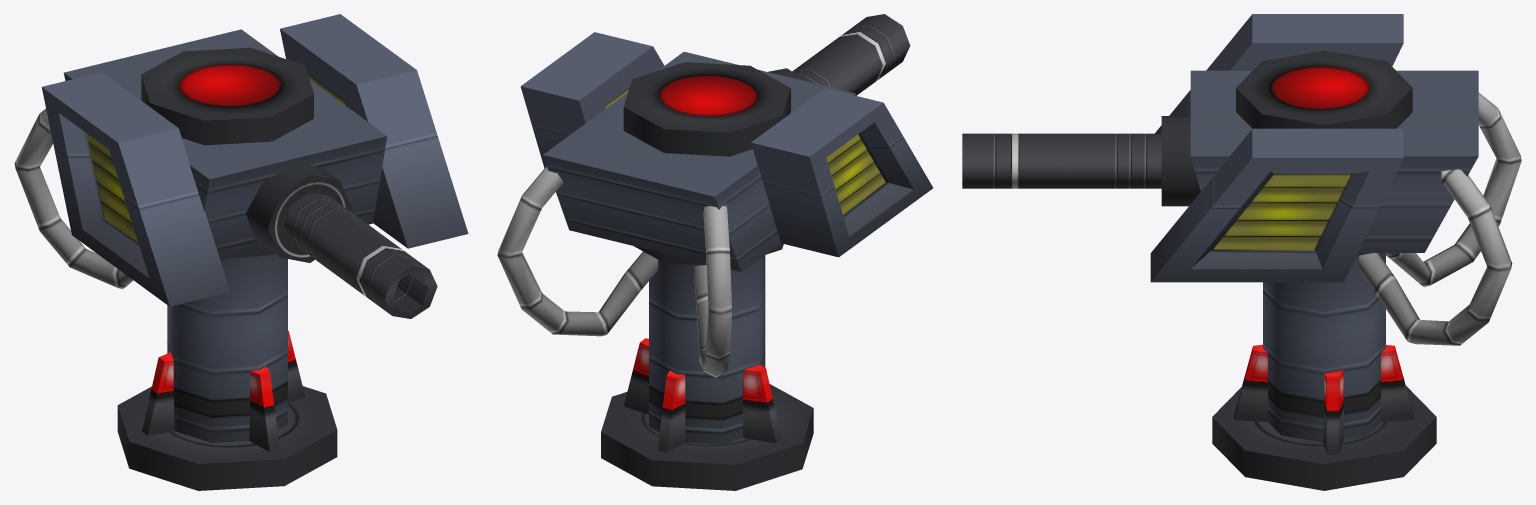
File: Turret.FBX
3 views of the same model, side by side, from view 1: azimuth 30°, elevation 25°; view 2: azimuth 150°, elevation 25°; view 3: azimuth 270°, elevation 25° (orthographic). The views are drawn at different scales.
Visible parts, largest first — view 1: Box01; view 2: Box01; view 3: Box01.
Boxes of the visible parts, <box> form: Box01: <box>14,14,468,490</box>; Box01: <box>497,14,932,490</box>; Box01: <box>962,14,1521,490</box>.
Size of the model in its own units: 13.93 by 16.21 by 22.88.
